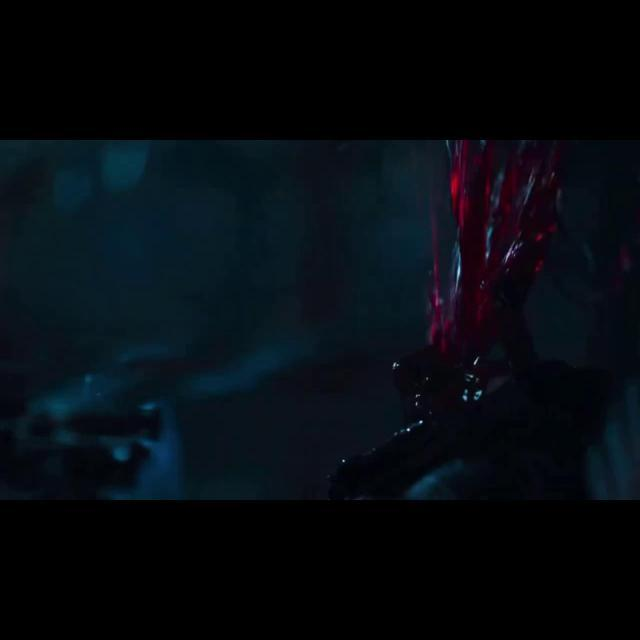blood: (430, 140, 566, 367)
